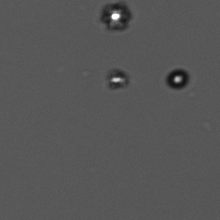Living Cell: (97, 1, 132, 32), (165, 64, 194, 91), (104, 66, 132, 93)
